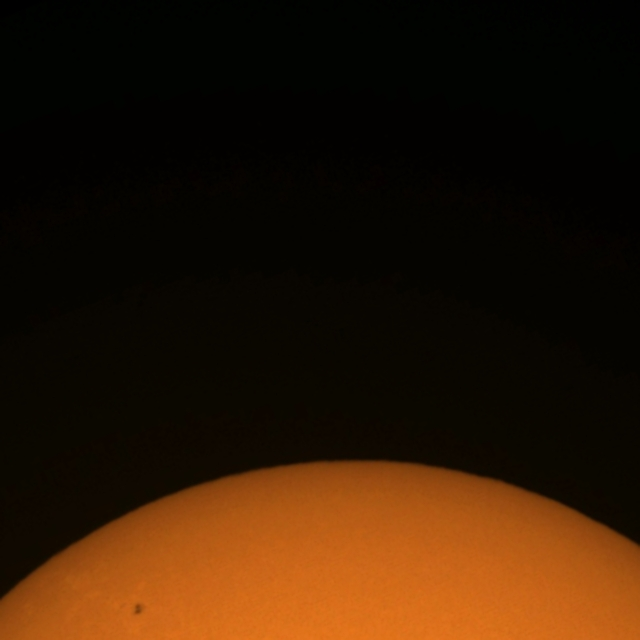sunspot: (131, 602, 146, 617)
